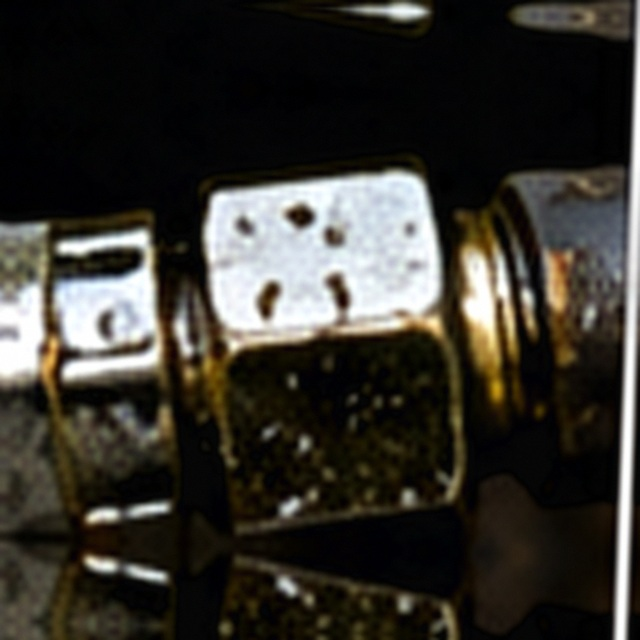hydraulic_oil_leak: (198, 220, 416, 498)
